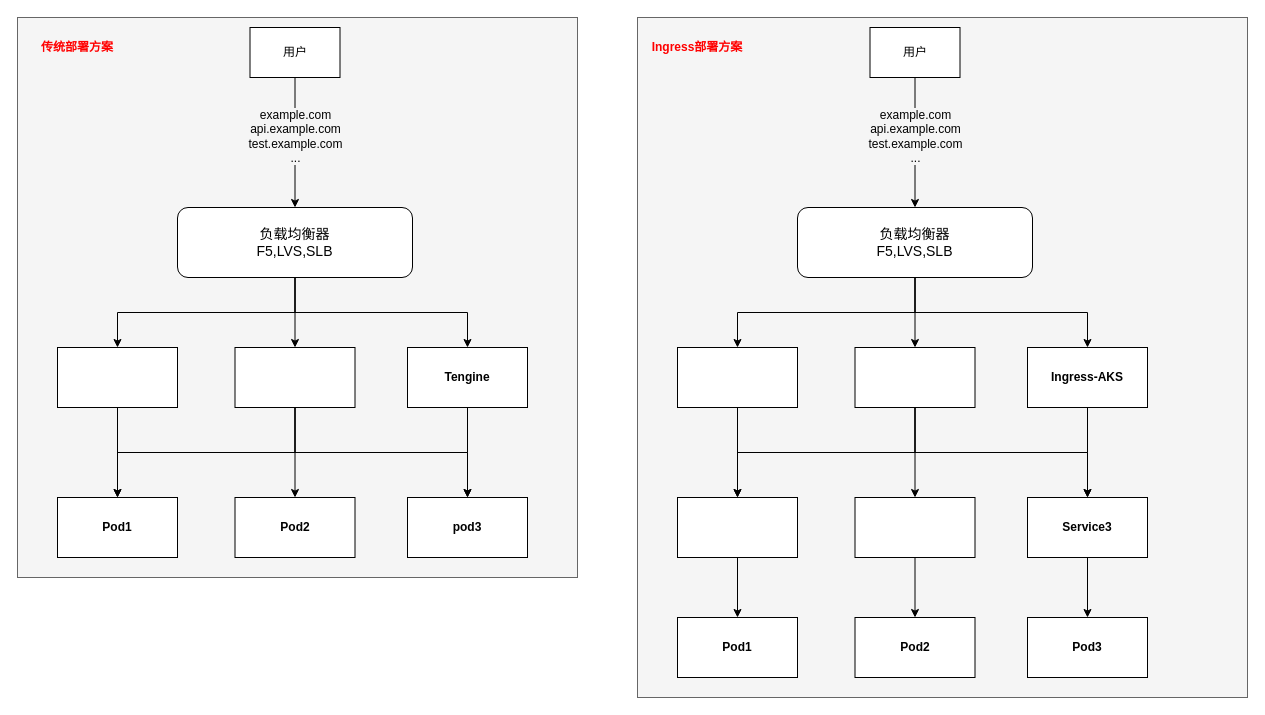
Image size: 1265x715. Some labels were removed from this diagram. The shapes that lost their labels are listed below. From the top down, each one's centre as x and y in pixels, then its label:
the point at 117,377: Nginx
the point at 294,377: HAProxy
the point at 737,377: Ingress-Nginx
the point at 914,377: Ingress -HAProxy
the point at 737,527: Service1
the point at 914,527: Service2
